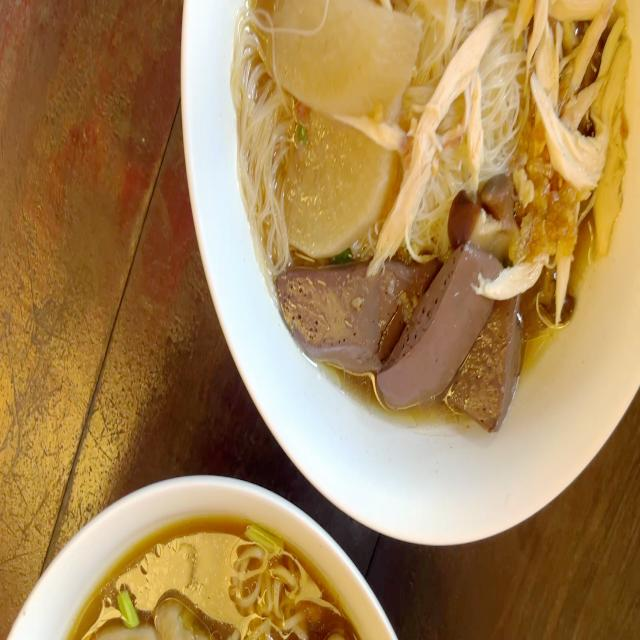boiled_chicken_blood_jelly: (277, 262, 528, 412)
chicken_shredded: (524, 3, 622, 281)
daikon_radish: (271, 0, 406, 127), (275, 125, 403, 256)
noodle: (218, 0, 640, 444), (69, 491, 378, 640)
